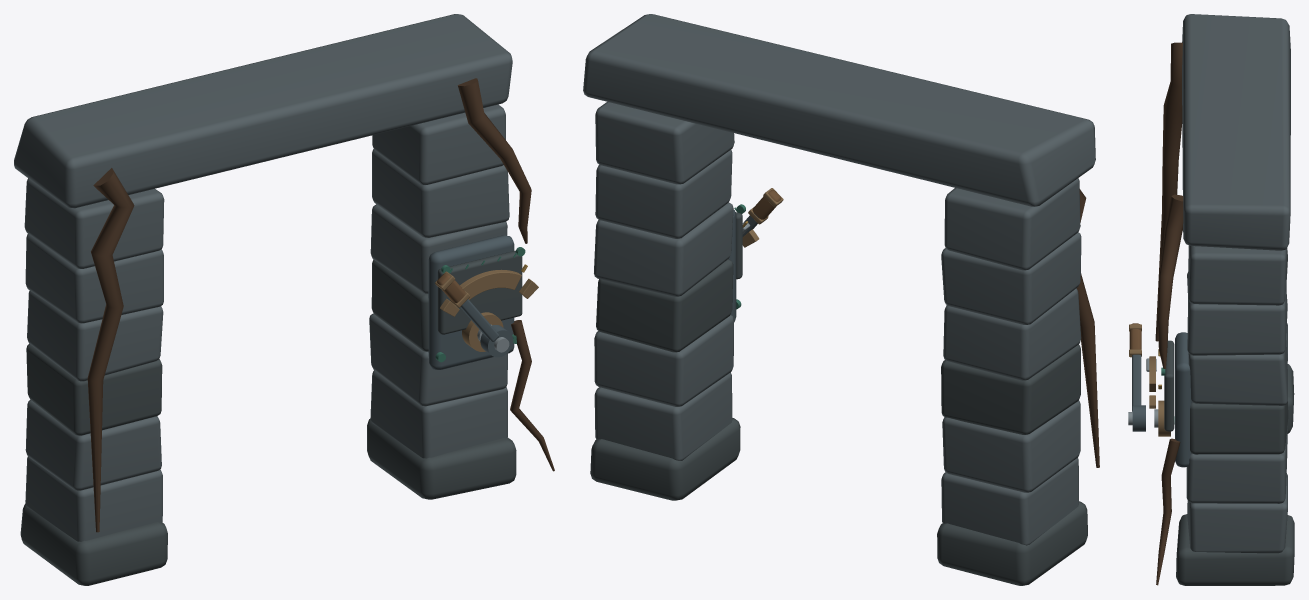
File: double_clearing_latch.glb
3 renders of one model, left to right at view 1: azimuth 30°, elevation 25°; view 2: azimuth 150°, elevation 25°; view 3: azimuth 270°, elevation 25°, orthographic. The views are drawn at different scales.
Parts seen in each view (by area): view 1: Chipped gate lintel, Gate pier right 5, Gate pier left 2, Gate pier right 1, Gate pier left 6, Gate pier left 1, Gate pier left 3, Gate pier left 5, Gate pier left 4, Gate foot left, Gate foot right, Gate pier right 6 (+9 smaller); view 2: Chipped gate lintel, Gate pier left 6, Gate pier right 4, Gate pier left 2, Gate pier left 3, Gate pier right 2, Gate pier right 6, Gate pier left 5, Gate pier left 4, Gate pier right 3, Gate pier right 5, Gate pier right 1 (+4 smaller); view 3: Chipped gate lintel, Gate pier right 6, Gate pier right 5, Gate pier right 2, Gate pier right 1, Gate pier right 4, Gate pier right 3, Gate foot right, Left upper root, Root above latch, Iron strike backing, Root across pier toe (+7 smaller).
Boxes of the visible parts, box(x1,y1,x2,y2) form: Chipped gate lintel: box(14, 14, 512, 208); Gate pier right 5: box(372, 149, 509, 237); Gate pier left 2: box(25, 399, 161, 490); Gate pier right 1: box(370, 370, 507, 458); Gate pier left 6: box(24, 178, 164, 268); Gate pier left 1: box(25, 457, 162, 541); Gate pier left 3: box(26, 344, 162, 435); Gate pier left 5: box(25, 234, 163, 323); Gate pier left 4: box(27, 290, 163, 381); Gate foot left: box(20, 503, 167, 585); Gate foot right: box(367, 418, 516, 499); Gate pier right 6: box(372, 104, 505, 185); Chipped gate lintel: box(583, 14, 1095, 206); Gate pier left 6: box(944, 178, 1080, 270); Gate pier right 4: box(594, 202, 733, 296); Gate pier left 2: box(942, 400, 1080, 492); Gate pier left 3: box(941, 344, 1080, 434); Gate pier right 2: box(594, 314, 733, 406); Gate pier right 6: box(595, 102, 734, 184); Gate pier left 5: box(941, 232, 1081, 324); Gate pier left 4: box(943, 288, 1081, 380); Gate pier right 3: box(596, 259, 733, 352); Gate pier right 5: box(595, 150, 732, 238); Gate pier right 1: box(594, 372, 732, 460); Chipped gate lintel: box(1182, 14, 1290, 250); Gate pier right 6: box(1188, 245, 1286, 305); Gate pier right 5: box(1187, 275, 1286, 355); Gate pier right 2: box(1186, 424, 1287, 503); Gate pier right 1: box(1187, 473, 1287, 553); Gate pier right 4: box(1188, 336, 1287, 405); Gate pier right 3: box(1190, 401, 1288, 454); Gate foot right: box(1176, 514, 1294, 585); Left upper root: box(1155, 42, 1182, 341); Root above latch: box(1157, 194, 1183, 368); Iron strike backing: box(1175, 332, 1191, 467); Root across pier toe: box(1156, 438, 1180, 585).
Bounding box in the file's own units: 3.24 × 2.82 × 1.1.
